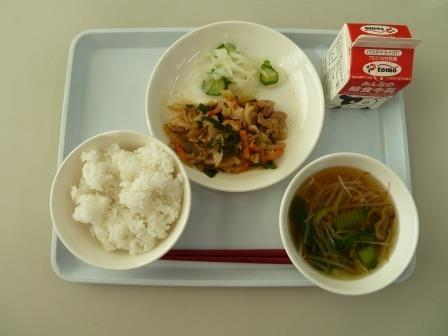Milk: (321, 21, 418, 113)
Rice: (55, 138, 189, 252)
Soups: (277, 153, 424, 291)
salad with sauce: (176, 37, 287, 108)
vegetable based cooked food: (165, 103, 290, 171)
